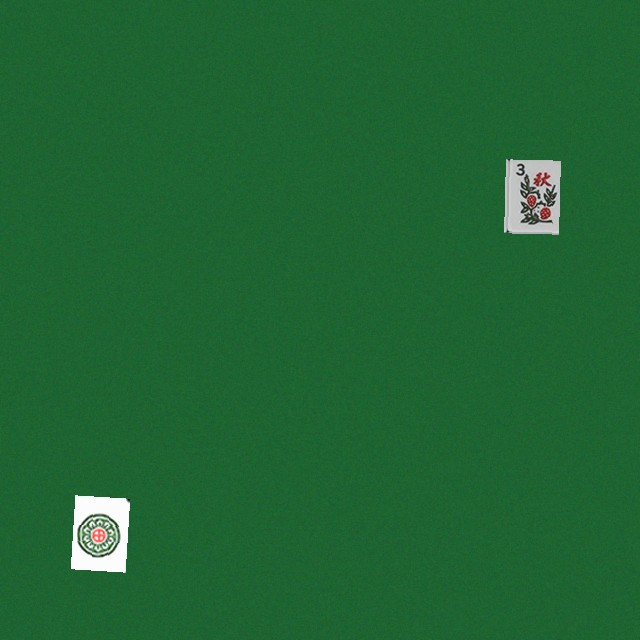tile: (70, 495, 125, 569), (504, 159, 559, 233)
